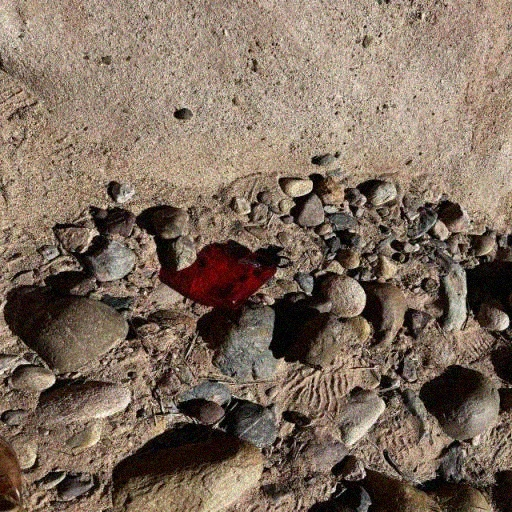bottle: (202, 247, 291, 313)
